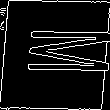M_E: (2, 31, 108, 79)
